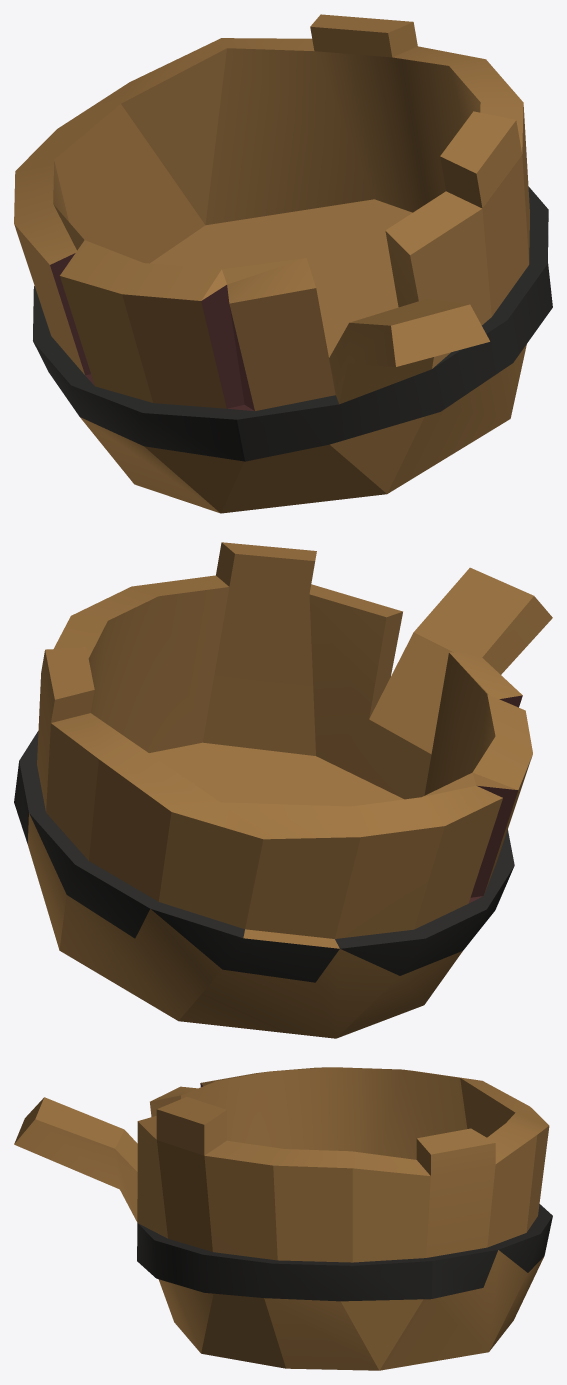
Rendered from ea_prop_container_bowl_01_pre__3__lev1.glb.
3 views of the same model, one above another, from view 1: azimuth 30°, elevation 25°; view 2: azimuth 150°, elevation 25°; view 3: azimuth 270°, elevation 25° (orthographic). The views are drawn at different scales.
Visible parts, largest first — view 1: ea_prop_container_bowl_01_pre__3__lev1; view 2: ea_prop_container_bowl_01_pre__3__lev1; view 3: ea_prop_container_bowl_01_pre__3__lev1.
Part boxes in pixels (x1,y1,x2,y2): ea_prop_container_bowl_01_pre__3__lev1: [14, 14, 552, 513]; ea_prop_container_bowl_01_pre__3__lev1: [14, 542, 552, 1038]; ea_prop_container_bowl_01_pre__3__lev1: [14, 1067, 552, 1370].
Size of the model in its own units: 0.4807 by 0.3478 by 0.6037.
1 material, 1 textured.
